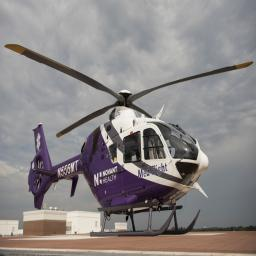helicopter: (6, 45, 255, 235)
